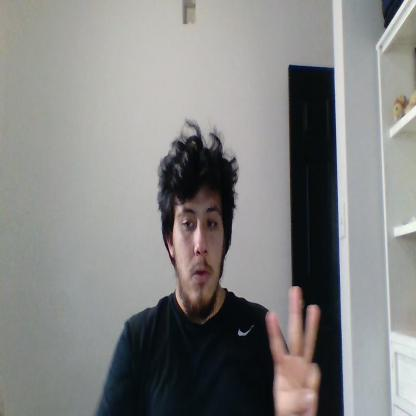W: (264, 286, 320, 415)
